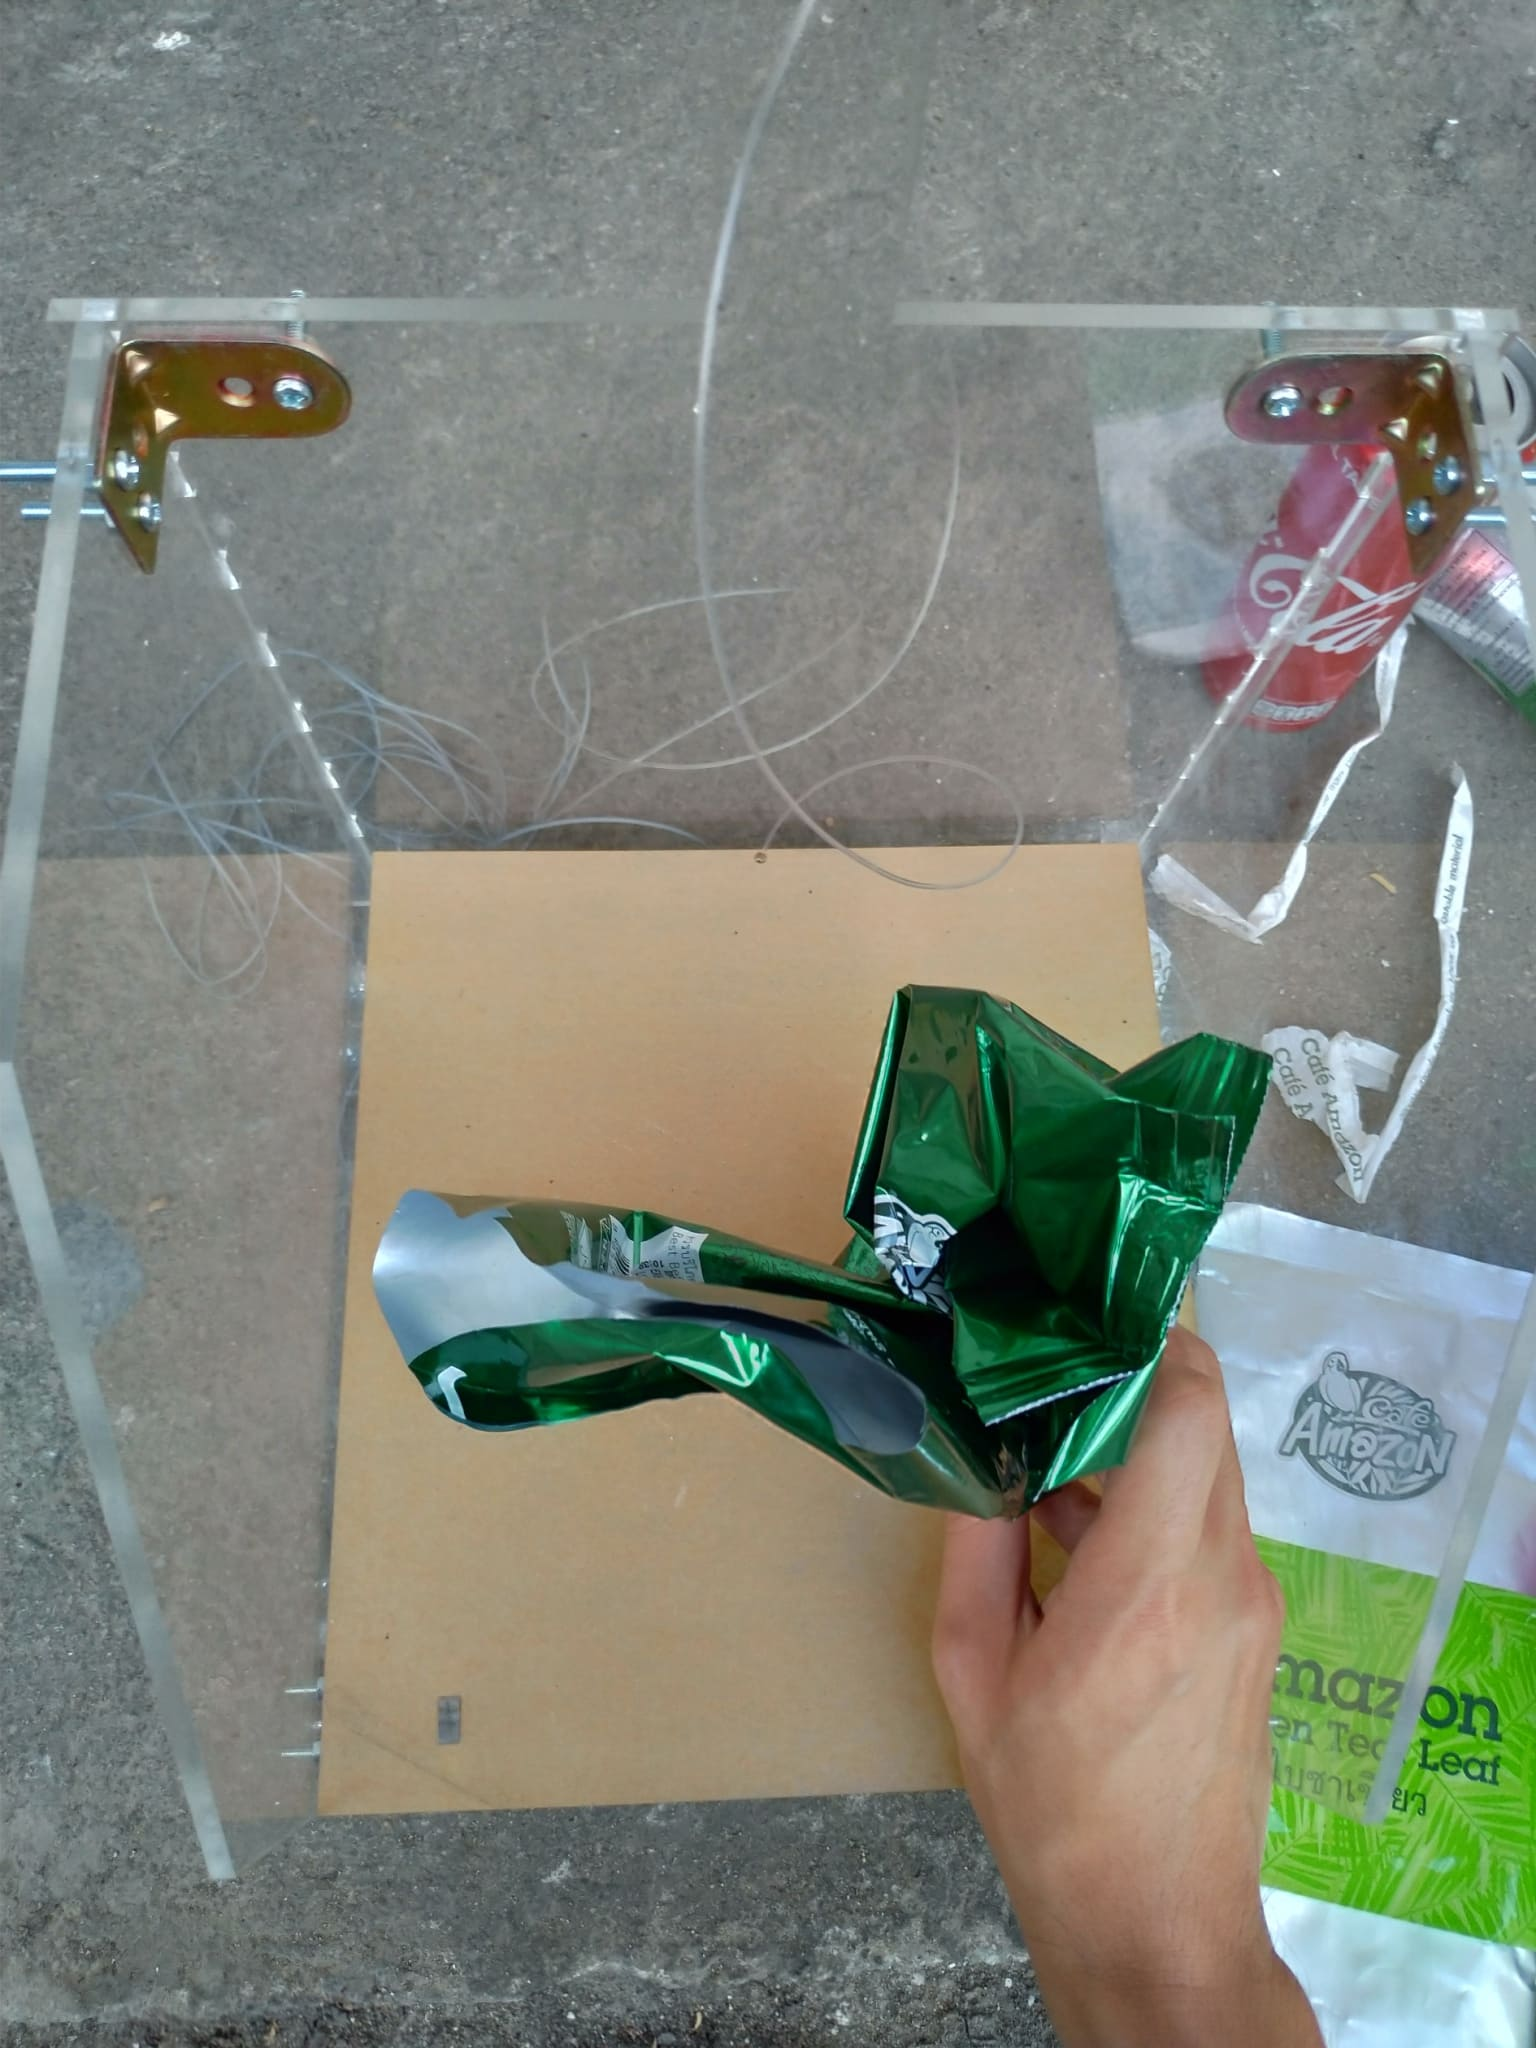AlCan: (1210, 327, 1518, 748)
Others: (369, 989, 1291, 1522), (1100, 1198, 1536, 2042)
